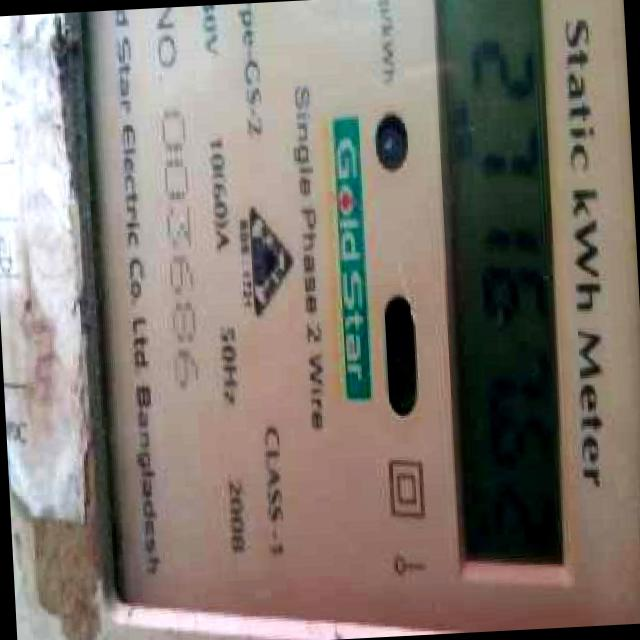LCD: (413, 0, 576, 598)
